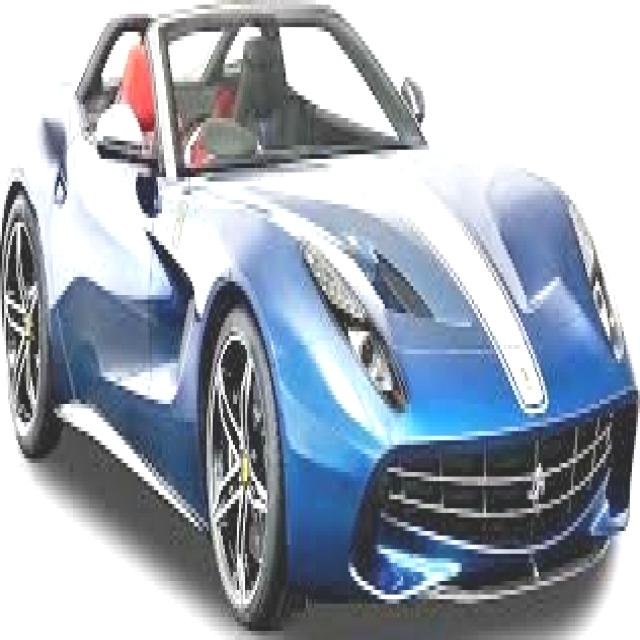blue: (0, 11, 627, 640)
